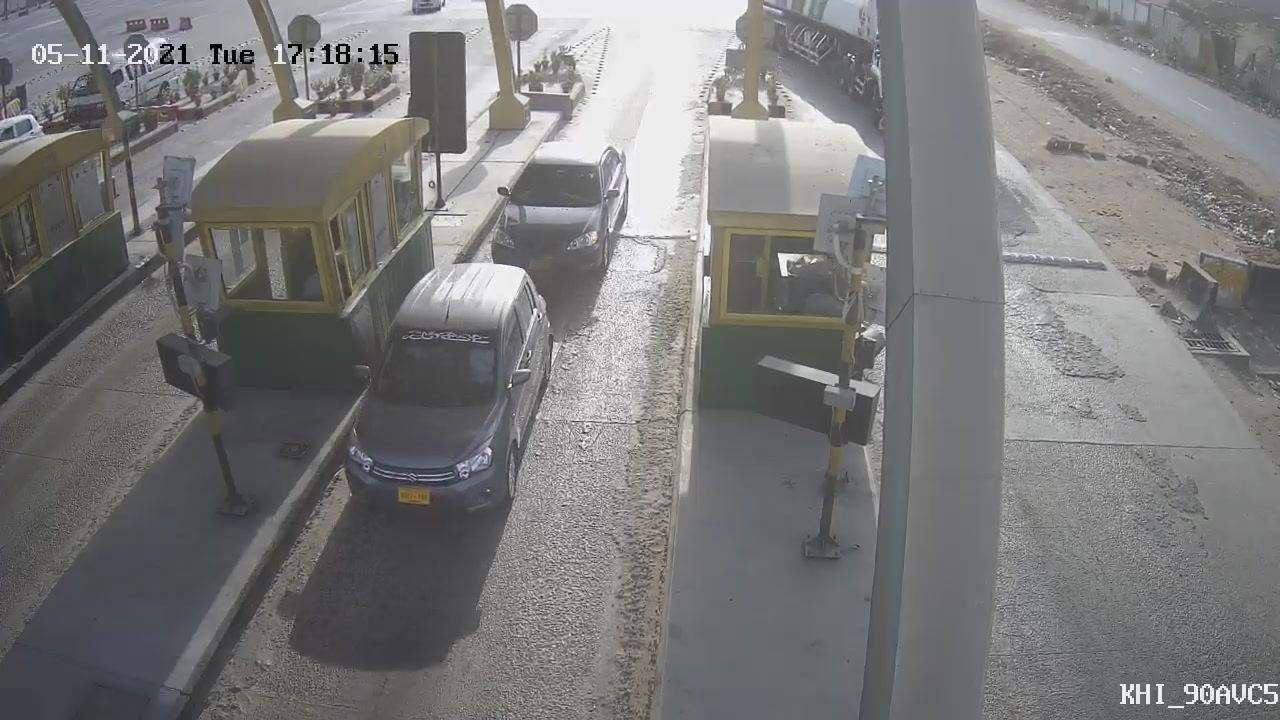F1: (313, 246, 572, 531), (470, 124, 652, 301)
